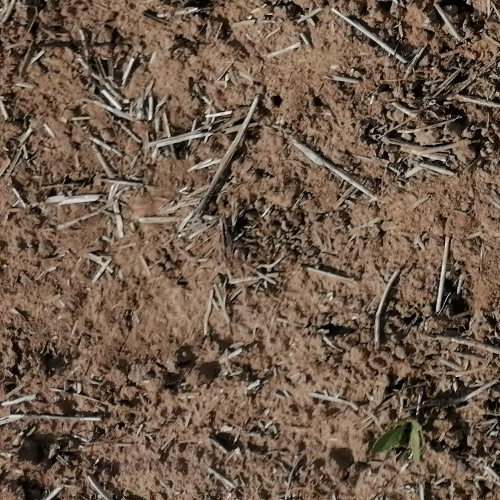beet: (370, 417, 426, 458)
